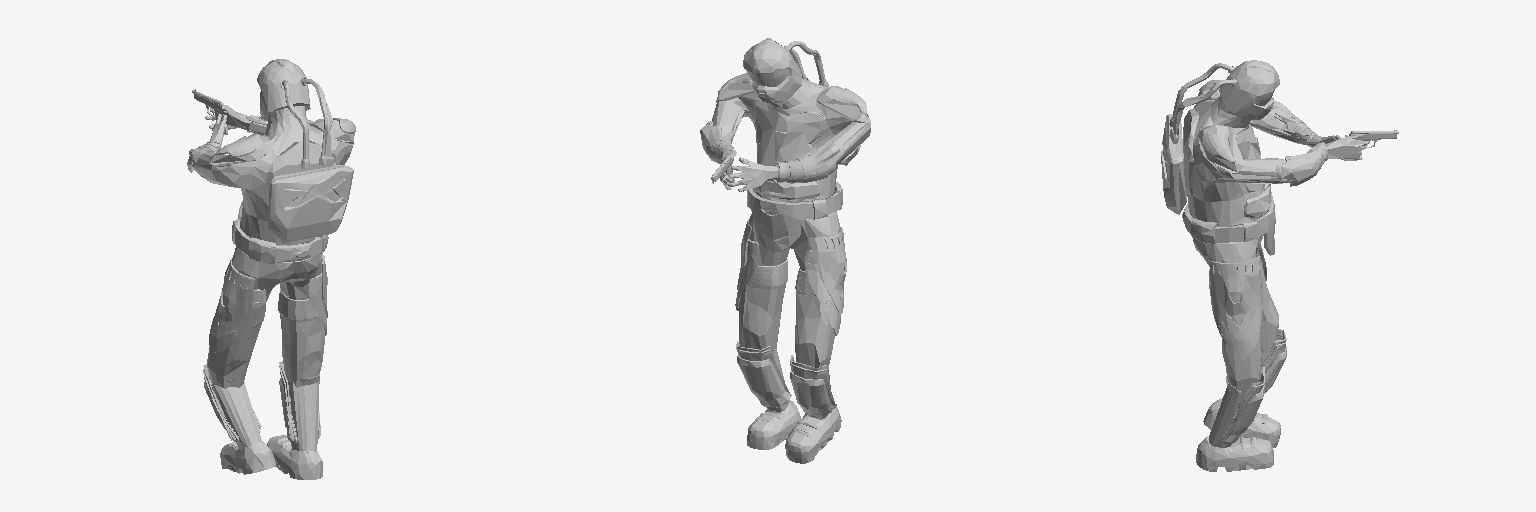
The picture shows the model from 3 angles: view 1: azimuth 30°, elevation 25°; view 2: azimuth 150°, elevation 25°; view 3: azimuth 270°, elevation 25°; orthographic projection.
Visible parts, largest first — view 1: personajeskefix:personaje:extrudedSurface2 polySurface60, personajeskefix:personaje:PANTALON polySurface60, personajeskefix:personaje:bota1 polySurface60, personajeskefix:personaje:CAMISETABUENA polySurface60, personajeskefix:personaje:pPipe4 polySurface60, personajeskefix:personaje:cosoarmdaurapierna1 polySurface60, personajeskefix:personaje:pCube4 polySurface60, personajeskefix:personaje:cinturon polySurface60, personajeskefix:personaje:polySurface6 polySurface60, personajeskefix:personaje:armadbota1 polySurface60; view 2: personajeskefix:personaje:pPipe4 polySurface60, personajeskefix:personaje:PANTALON polySurface60, personajeskefix:personaje:CAMISETABUENA polySurface60, personajeskefix:personaje:bota1 polySurface60, personajeskefix:personaje:cinturon polySurface60, personajeskefix:personaje:armadbota1 polySurface60, personajeskefix:personaje:extrudedSurface2 polySurface60, personajeskefix:personaje:pCube4 polySurface60, personajeskefix:personaje:cosoarmdaurapierna1 polySurface60, personajeskefix:personaje:polySurface2 polySurface60, personajeskefix:personaje:polySurface6 polySurface60; view 3: personajeskefix:personaje:CAMISETABUENA polySurface60, personajeskefix:personaje:pPipe4 polySurface60, personajeskefix:personaje:extrudedSurface2 polySurface60, personajeskefix:personaje:bota1 polySurface60, personajeskefix:personaje:pCube4 polySurface60, personajeskefix:personaje:PANTALON polySurface60, personajeskefix:personaje:cinturon polySurface60, personajeskefix:personaje:armadbota1 polySurface60, personajeskefix:personaje:cosoarmadurapierna2 polySurface60, personajeskefix:personaje:hombro1 polySurface60.
Boxes of the visible parts, <box> form: personajeskefix:personaje:extrudedSurface2 polySurface60: <box>257,59,353,242</box>; personajeskefix:personaje:PANTALON polySurface60: <box>207,232,324,398</box>; personajeskefix:personaje:bota1 polySurface60: <box>212,375,322,479</box>; personajeskefix:personaje:CAMISETABUENA polySurface60: <box>192,106,353,262</box>; personajeskefix:personaje:pPipe4 polySurface60: <box>205,105,354,220</box>; personajeskefix:personaje:cosoarmdaurapierna1 polySurface60: <box>212,257,265,342</box>; personajeskefix:personaje:pCube4 polySurface60: <box>203,253,327,442</box>; personajeskefix:personaje:cinturon polySurface60: <box>232,218,328,263</box>; personajeskefix:personaje:polySurface6 polySurface60: <box>252,288,318,326</box>; personajeskefix:personaje:armadbota1 polySurface60: <box>203,365,319,440</box>; personajeskefix:personaje:pPipe4 polySurface60: <box>700,81,870,199</box>; personajeskefix:personaje:PANTALON polySurface60: <box>739,194,840,369</box>; personajeskefix:personaje:CAMISETABUENA polySurface60: <box>712,79,870,217</box>; personajeskefix:personaje:bota1 polySurface60: <box>747,348,841,463</box>; personajeskefix:personaje:cinturon polySurface60: <box>747,182,842,253</box>; personajeskefix:personaje:armadbota1 polySurface60: <box>736,344,832,415</box>; personajeskefix:personaje:extrudedSurface2 polySurface60: <box>743,38,860,165</box>; personajeskefix:personaje:pCube4 polySurface60: <box>736,218,844,416</box>; personajeskefix:personaje:cosoarmdaurapierna1 polySurface60: <box>805,227,846,313</box>; personajeskefix:personaje:polySurface2 polySurface60: <box>775,141,843,183</box>; personajeskefix:personaje:polySurface6 polySurface60: <box>747,259,815,294</box>; personajeskefix:personaje:CAMISETABUENA polySurface60: <box>1188,95,1317,243</box>; personajeskefix:personaje:pPipe4 polySurface60: <box>1183,85,1365,216</box>; personajeskefix:personaje:extrudedSurface2 polySurface60: <box>1161,60,1279,214</box>; personajeskefix:personaje:bota1 polySurface60: <box>1196,351,1280,471</box>; personajeskefix:personaje:pCube4 polySurface60: <box>1209,243,1285,443</box>; personajeskefix:personaje:PANTALON polySurface60: <box>1192,206,1278,407</box>; personajeskefix:personaje:cinturon polySurface60: <box>1182,189,1275,255</box>; personajeskefix:personaje:armadbota1 polySurface60: <box>1222,332,1286,442</box>; personajeskefix:personaje:cosoarmadurapierna2 polySurface60: <box>1209,266,1262,359</box>; personajeskefix:personaje:hombro1 polySurface60: <box>1202,131,1235,162</box>.
Size of the model in its own units: 3.64 by 9.48 by 5.08.